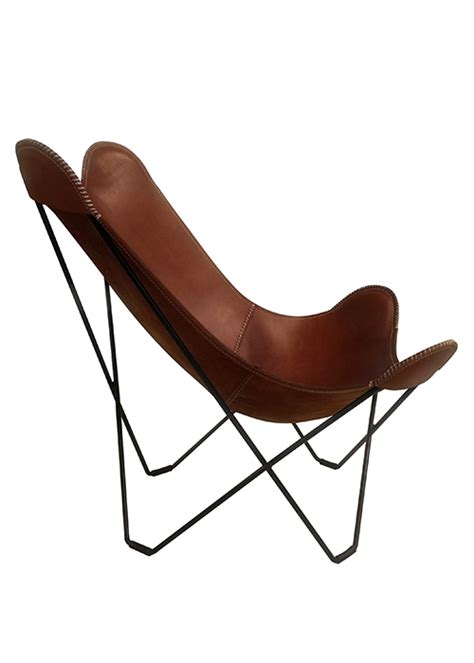cuero: (14, 138, 459, 424)
